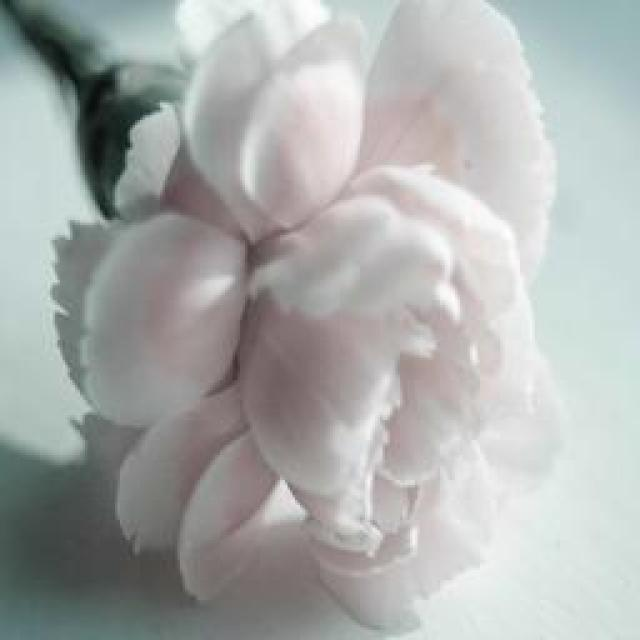carnation: (73, 0, 588, 600)
